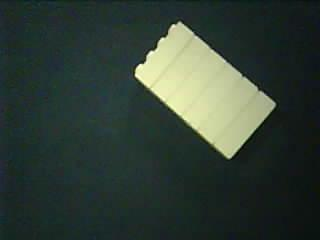lego: (132, 20, 277, 162)
